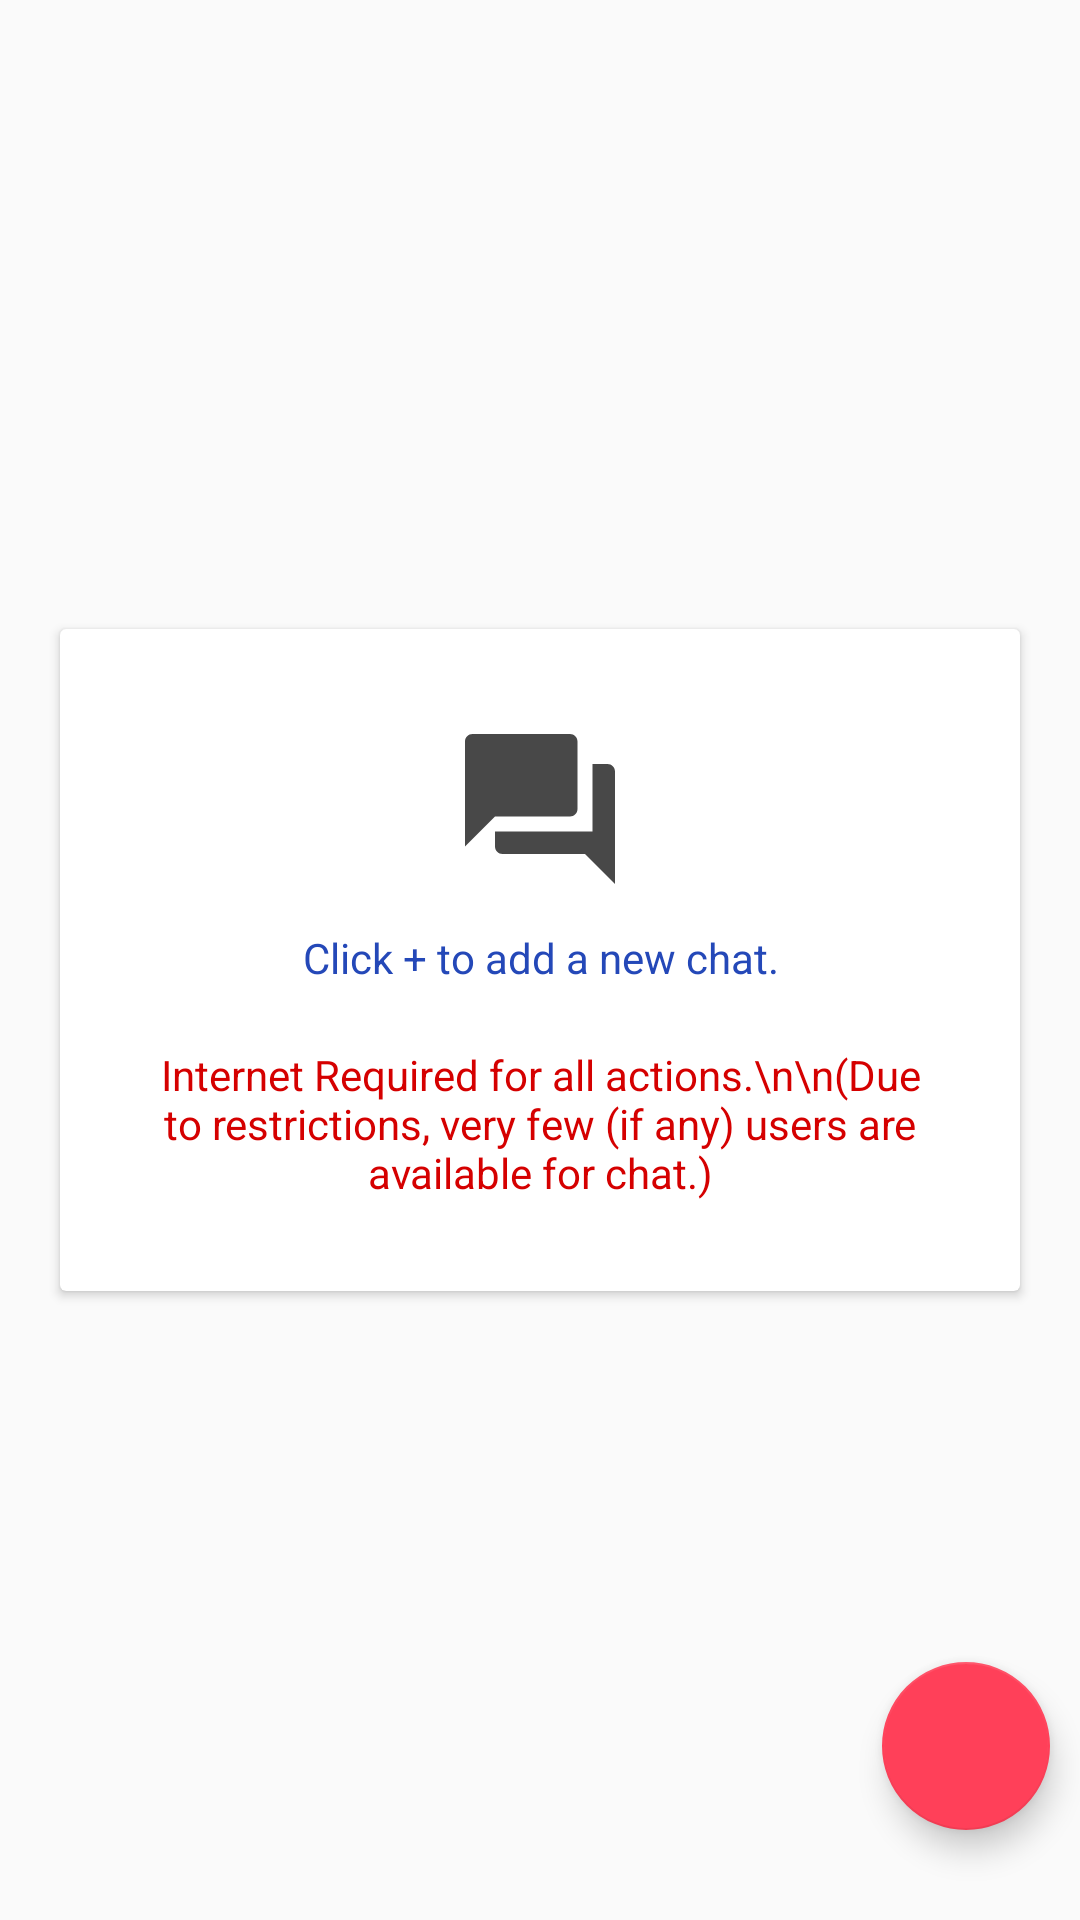

Where icons sit on this 1080px x 1920px app screen, as [left=x1, top=y1, right=x2, bottom=y2]:
chats: [left=465, top=734, right=615, bottom=884]
